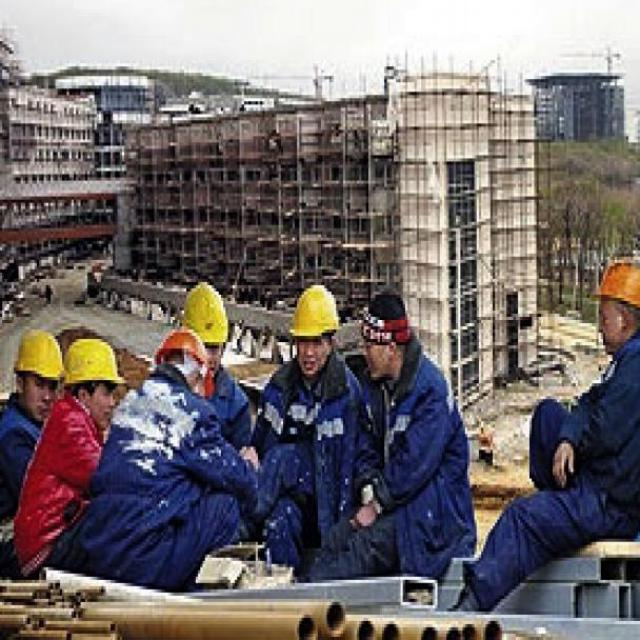helmet: (161, 272, 228, 431), (591, 222, 638, 384), (62, 310, 115, 428), (288, 275, 331, 403), (11, 294, 55, 403)
vest: (359, 377, 469, 570), (260, 377, 364, 561), (23, 412, 103, 564)
